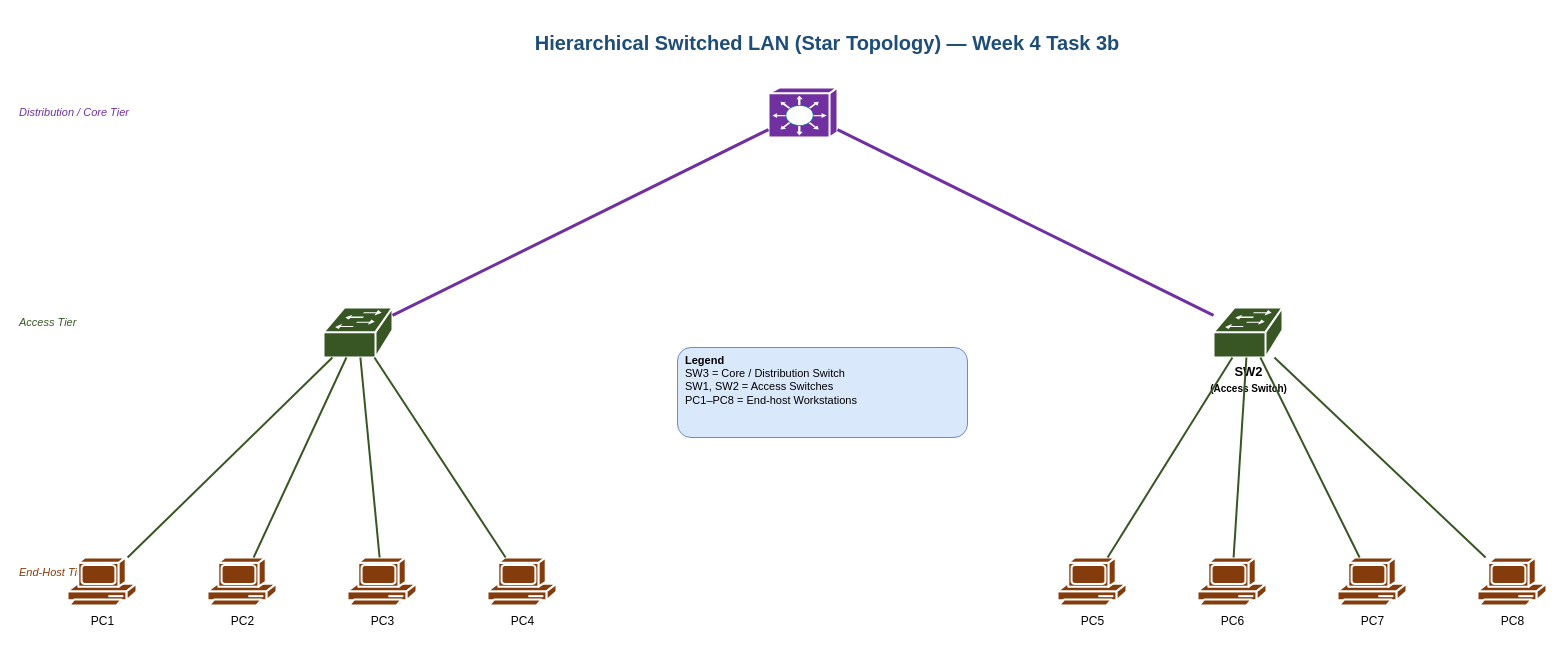
This 1564x645 diagram has some shape labels left out. The box of each missing label's shape, as (x1, y1, x2, y2) in pixels:
SW1 (Access Switch): (322, 306, 393, 358)
SW3 (Core Switch): (767, 86, 838, 138)
